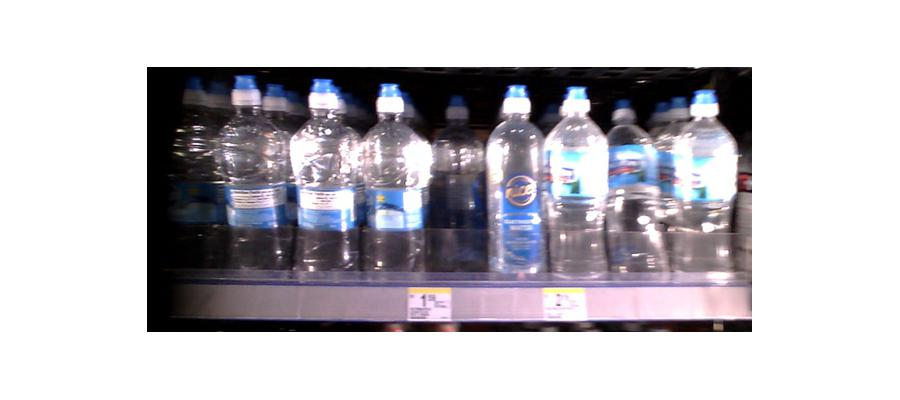bottle: (217, 79, 294, 272), (356, 90, 427, 275), (544, 87, 609, 283), (291, 86, 355, 275), (487, 88, 545, 281), (676, 89, 735, 276), (608, 101, 666, 280), (428, 100, 483, 276)
